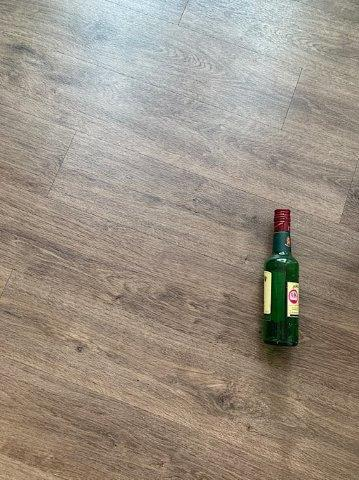botolkaca: (264, 209, 297, 347)
